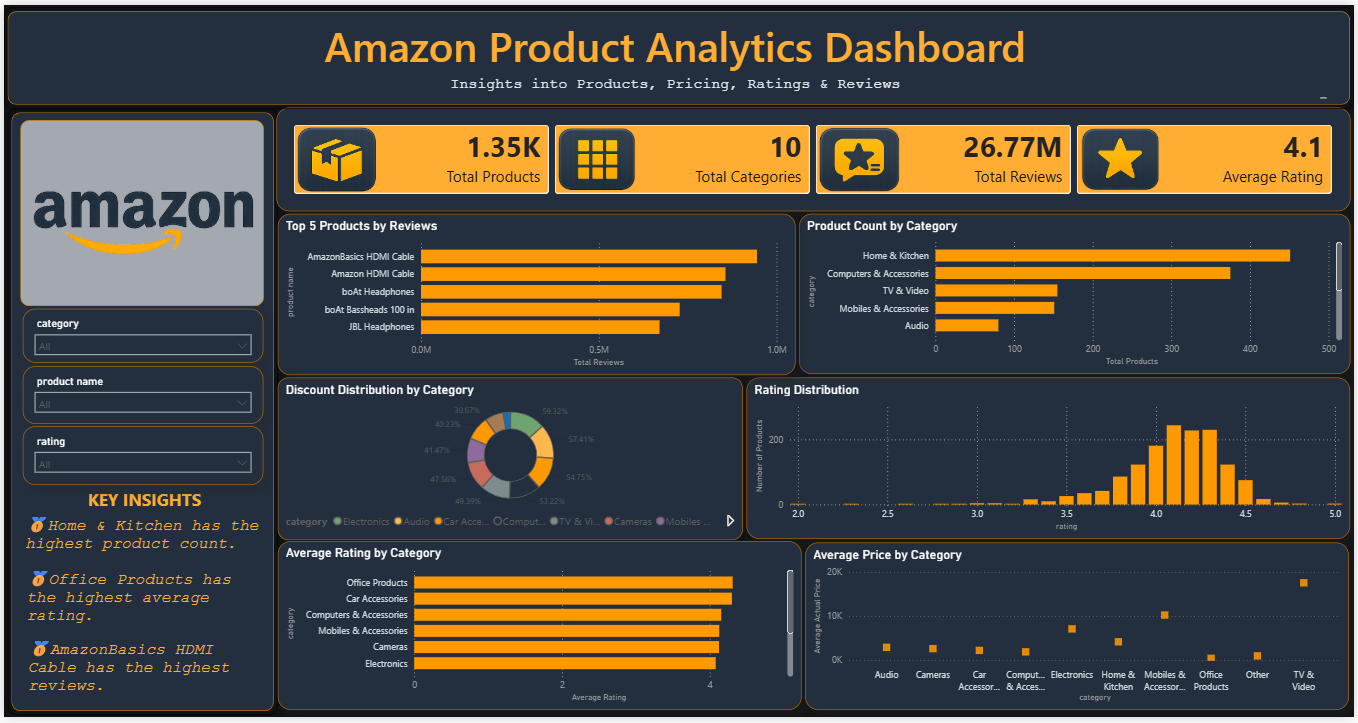

The page's visual inventory and layout, read from the dashboard file:
{"tool":"powerbi","page":{"name":"Page 1","canvas":[1800,950],"ordinal":0},"visuals":[{"type":"group","id":"g1","title":"Group 5","box":[0.1,4,1800,943.6],"z":0},{"type":"group","id":"g2","title":"Group 4","box":[0.1,4,1800,943.6],"z":0,"group":"g1"},{"type":"shape","box":[5.3,139.2,360,808.3],"z":0,"group":"g2"},{"type":"cardVisual","fields":{"Data":["Products.Total Products","Products.Total Categories","Reviews.Total Reviews","Reviews.Average Rating"]},"box":[364.2,137.6,1431.7,138.3],"z":1000,"group":"g2"},{"type":"donutChart","title":"Discount Distribution by Category","fields":{"Category":["Products.category"],"Y":["Products.Average Discount Percentage"]},"box":[370.5,500,620,215],"z":1000,"group":"g1"},{"type":"textbox","title":"🥇Office Products has the highest average rating.","box":[25,748.3,286.7,78.3],"z":1000},{"type":"textbox","title":"KEY INSIGHTS ","box":[75.1,644,225,71.7],"z":2000,"group":"g2"},{"type":"textbox","title":"🥇AmazonBasics HDMI Cable has the highest reviews.","box":[26.7,841.7,310,76.7],"z":2000},{"type":"slicer","fields":{"Values":["Products.category"]},"box":[24.4,405.9,320.9,71.7],"z":3000,"group":"g2"},{"type":"textbox","title":"🥇Home & Kitchen has the highest product count.","box":[23.6,677.6,321.7,78.3],"z":4000,"group":"g2"},{"type":"slicer","fields":{"Values":["Products.product_name"]},"box":[24.4,482.6,320.9,76.7],"z":5000,"group":"g2"},{"type":"slicer","fields":{"Values":["Reviews.rating"]},"box":[24.4,562.6,320.9,78.3],"z":6000,"group":"g2"},{"type":"clusteredBarChart","title":"Product Count by Category","fields":{"Category":["Products.category"],"Y":["Products.Total Products"]},"box":[1060.8,279.2,735,213.3],"z":7000,"group":"g2"},{"type":"columnChart","title":" Rating Distribution","fields":{"Category":["Reviews.rating"],"Y":["CountNonNull(Reviews.product_id)"]},"box":[990.3,497.6,805,215],"z":8000,"group":"g2"},{"type":"clusteredBarChart","title":" Average Rating by Category","fields":{"Category":["Products.category"],"Y":["Reviews.Average Rating"]},"box":[365.8,717.6,698.3,223.3],"z":9000,"group":"g2"},{"type":"clusteredBarChart","title":"Top 5 Products by Reviews","fields":{"Category":["Products.product name"],"Y":["Reviews.Total Reviews"]},"box":[365.3,279.2,690,215],"z":10000,"group":"g2"},{"type":"scatterChart","title":"Average Price by Category","fields":{"Y":["Products.Average Actual Price"],"X":["Products.category"]},"box":[1068.6,717.6,725,223.3],"z":11000,"group":"g2"},{"type":"image","box":[1436.9,125.9,105,161.7],"z":12000,"group":"g2"},{"type":"image","box":[1085.3,149.2,110,113.3],"z":13000,"group":"g2"},{"type":"image","box":[736.9,160.9,106.7,91.7],"z":14000,"group":"g2"},{"type":"image","box":[311.9,162.6,265,88.3],"z":15000,"group":"g2"},{"type":"shape","box":[21.4,154.2,325,248.3],"z":16000,"group":"g2"},{"type":"image","box":[33.6,179.2,313.3,230],"z":17000,"group":"g2"},{"type":"shape","box":[0.1,4,1800,135],"z":17500,"group":"g3"},{"type":"group","id":"g3","title":"Group 3","box":[0.1,4,1800,135],"z":18000,"group":"g2"},{"type":"textbox","title":"Amazon Product Analytics Dashboard","box":[22,16.6,1746.7,113.3],"z":18000,"group":"g3"},{"type":"actionButton","box":[22.3,154.2,326.7,248.3],"z":19000,"group":"g2"}]}

Visuals, with their boxes in screenshot pixels (x1, y1, x2, y2), scaled from the page's 1800x950 canvas onto the 1358x723 screenshot:
"Group 5" group: 0,3,1357,721
"Group 4" group: 0,3,1357,721
shape: 4,106,276,721
cardVisual - Products.Total Products x Products.Total Categories: 275,105,1355,210
"Discount Distribution by Category" donutChart: 280,381,747,544
"🥇Office Products has the highest average rating." textbox: 19,569,235,629
"KEY INSIGHTS " textbox: 57,490,226,545
"🥇AmazonBasics HDMI Cable has the highest reviews." textbox: 20,641,254,699
slicer - Products.category: 18,309,261,363
"🥇Home & Kitchen has the highest product count." textbox: 18,516,261,575
slicer - Products.product_name: 18,367,261,426
slicer - Reviews.rating: 18,428,261,488
"Product Count by Category" clusteredBarChart: 800,212,1355,375
" Rating Distribution" columnChart: 747,379,1354,542
" Average Rating by Category" clusteredBarChart: 276,546,803,716
"Top 5 Products by Reviews" clusteredBarChart: 276,212,796,376
"Average Price by Category" scatterChart: 806,546,1353,716
image: 1084,96,1163,219
image: 819,114,902,200
image: 556,122,636,192
image: 235,124,435,191
shape: 16,117,261,306
image: 25,136,262,311
shape: 0,3,1357,106
"Group 3" group: 0,3,1357,106
"Amazon Product Analytics Dashboard" textbox: 17,13,1334,99
actionButton: 17,117,263,306
